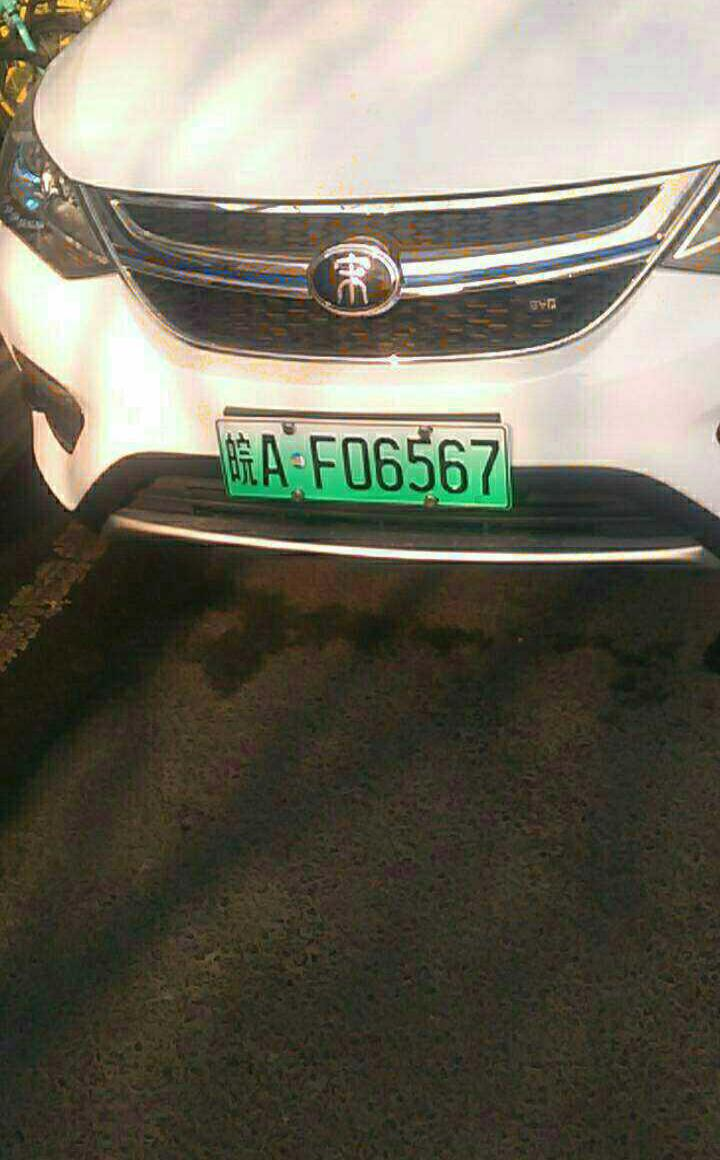car_id: (215, 421, 506, 506)
